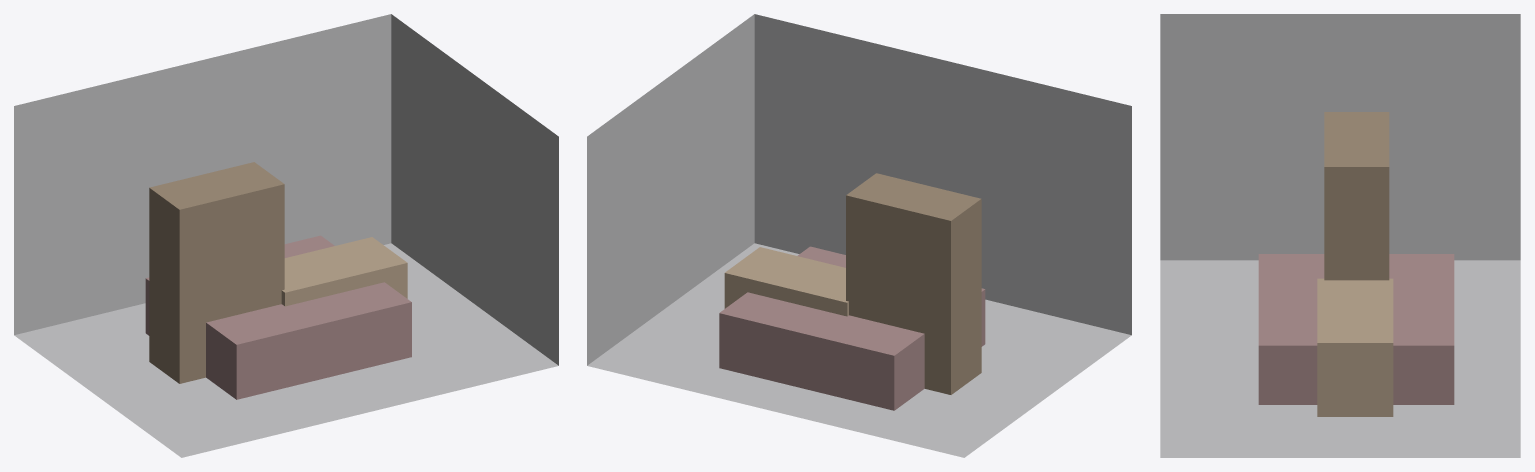
The model's file is current_layout.glb.
3 views of the same model, side by side, from view 1: azimuth 30°, elevation 25°; view 2: azimuth 150°, elevation 25°; view 3: azimuth 270°, elevation 25° (orthographic). The views are drawn at different scales.
Visible parts, largest first — view 1: room, wardrobe, bed, desk; view 2: room, wardrobe, bed, desk; view 3: room, bed, wardrobe, desk.
Boxes of the visible parts, box(x1,y1,x2,y2) form: room: box(14, 14, 558, 457); wardrobe: box(149, 162, 284, 383); bed: box(145, 235, 411, 399); desk: box(281, 237, 407, 306); room: box(587, 14, 1131, 457); wardrobe: box(846, 173, 981, 394); bed: box(719, 246, 985, 410); desk: box(724, 247, 848, 316); room: box(1160, 14, 1520, 457); bed: box(1258, 254, 1454, 404); wardrobe: box(1324, 112, 1389, 280); desk: box(1317, 278, 1393, 416).
Size of the model in its own units: 4.31 by 2.5 by 3.31.
